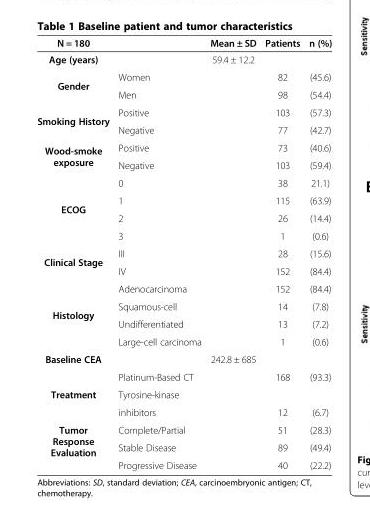table: (36, 36, 331, 470)
table column: (113, 36, 205, 470), (36, 36, 113, 470), (205, 36, 259, 470), (259, 36, 303, 470), (303, 36, 331, 470)
table column header: (36, 36, 331, 50)
table row: (36, 438, 331, 458), (36, 67, 331, 85), (36, 85, 331, 103), (36, 120, 331, 138), (36, 138, 331, 156), (36, 173, 331, 191), (36, 191, 331, 209), (36, 226, 331, 244), (36, 244, 331, 262), (36, 279, 331, 297), (36, 314, 331, 332), (36, 332, 331, 350), (36, 367, 331, 385), (36, 385, 331, 403), (36, 420, 331, 438), (36, 50, 331, 67), (36, 103, 331, 120), (36, 156, 331, 173), (36, 209, 331, 226), (36, 262, 331, 279), (36, 297, 331, 314), (36, 350, 331, 367), (36, 403, 331, 420), (36, 36, 331, 50), (36, 458, 331, 470)
table spanning cell: (36, 173, 113, 244), (36, 279, 113, 350), (36, 367, 113, 420), (36, 420, 113, 470), (36, 67, 113, 103), (36, 103, 113, 138), (36, 138, 113, 173), (36, 244, 113, 279)
